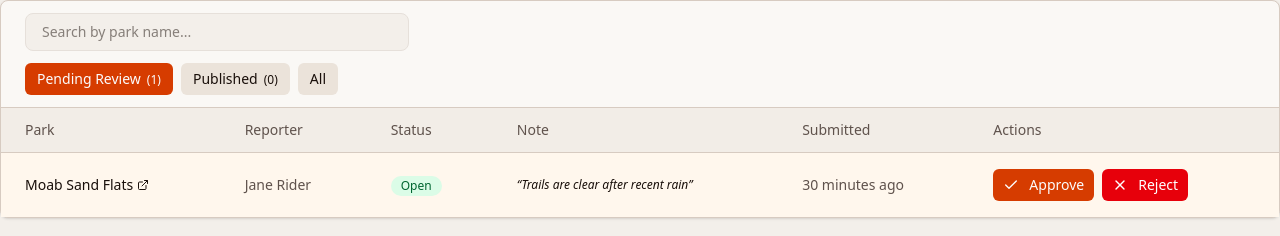
Scenario: ConditionModerationTable › disables buttons while a request is in flight
The image size is (1280, 236).
Click the button "Approve" at [1044, 185], box [993,169,1094,201]
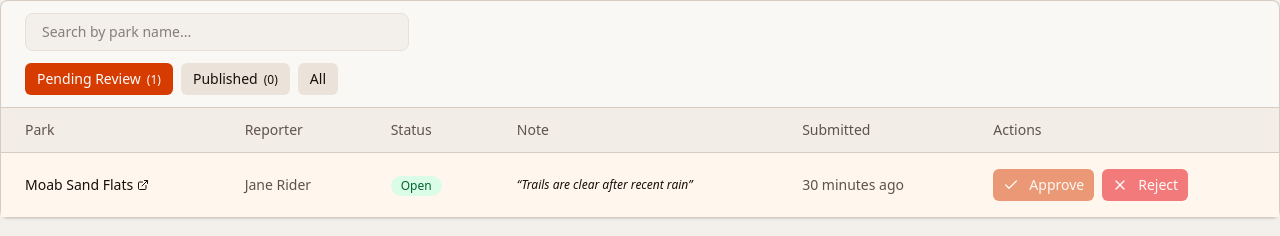
Now the button "Approve" is disabled, box [993,169,1094,201]
Now the button "Reject" is disabled, box [1102,169,1188,201]
